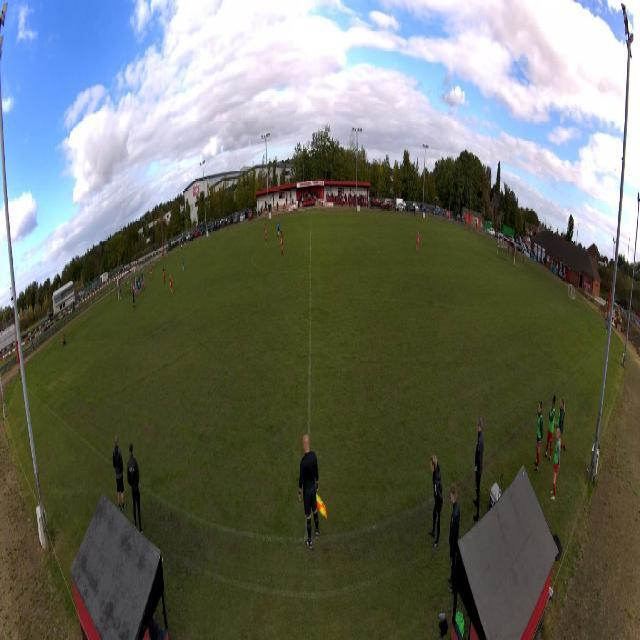ball: (143, 234, 144, 238)
player: (169, 274, 174, 296), (280, 230, 284, 257), (416, 228, 420, 252), (132, 289, 136, 310), (141, 275, 145, 294), (133, 284, 137, 301), (264, 224, 267, 245), (277, 219, 280, 239), (182, 254, 185, 273), (127, 278, 130, 296), (163, 267, 166, 284), (119, 285, 122, 302), (150, 266, 153, 282), (139, 276, 142, 292), (136, 278, 139, 294), (130, 277, 133, 293), (141, 272, 144, 286), (138, 280, 140, 296), (184, 239, 186, 250), (138, 281, 140, 290)
